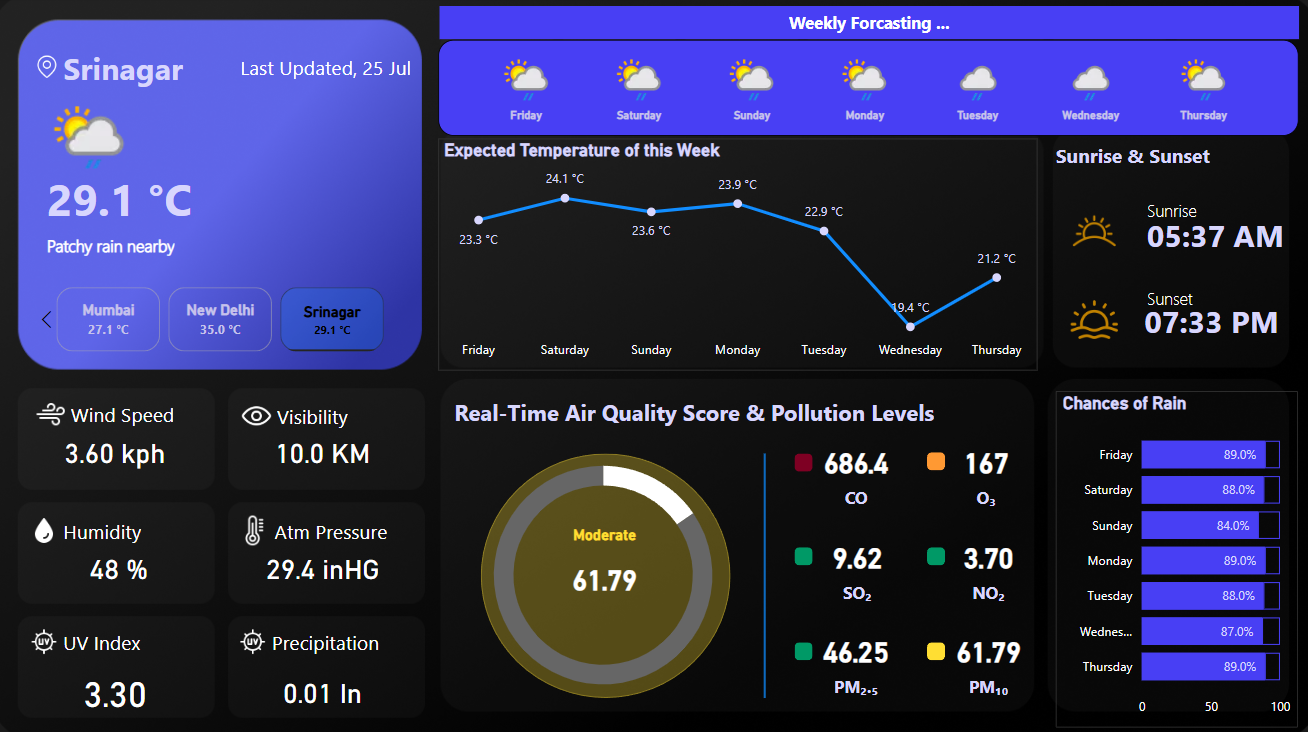

This screenshot's page, from the dashboard's own definition file:
{"tool":"powerbi","page":{"name":"Page 1","canvas":[1280,720],"ordinal":0},"visuals":[{"type":"shape","box":[471.2,441.2,241.2,236.2],"z":0},{"type":"donutChart","fields":{"Y":["Sum(CurrentData.current.air_quality.pm10)","_Measures.PM10_AQI_Left_to_Reach_Alert"]},"box":[432.5,422.5,316.2,273.8],"z":1000},{"type":"advancedSlicerVisual","fields":{"Values":["Locations.location.name"]},"box":[37,275.8,367.8,72.7],"z":2000},{"type":"cardVisual","fields":{"Data":["Min(CurrentData.current.condition.icon)"]},"box":[37,78.2,115.3,93.3],"z":3000},{"type":"shape","box":[53,162,344,64],"z":4000},{"type":"shape","box":[53,219,368,40],"z":5000},{"type":"shape","box":[68.6,42.5,152.3,52.1],"z":6000},{"type":"shape","box":[220.9,42.5,183.9,52.1],"z":7000},{"type":"image","box":[37,42.5,31.6,52.1],"z":8000},{"type":"image","box":[234,382,42.5,45.3],"z":9000},{"type":"shape","box":[275.6,382,125.4,45.2],"z":10000},{"type":"image","box":[37,381.5,38.4,45.3],"z":11000},{"type":"shape","box":[75.5,381.5,124.9,45.3],"z":12000},{"type":"image","box":[32.9,494,35.7,45.3],"z":13000},{"type":"shape","box":[68.6,494,124.9,45.3],"z":14000},{"type":"image","box":[234.6,494,38.4,45.3],"z":15000},{"type":"shape","box":[273.1,494,124.9,45.3],"z":16000},{"type":"image","box":[234.6,601,35.7,45.3],"z":17000},{"type":"shape","box":[270.3,601,124.9,45.3],"z":18000},{"type":"image","box":[32.9,601,35.7,45.3],"z":19000},{"type":"shape","box":[68.6,601,124.9,45.3],"z":20000},{"type":"card","fields":{"Values":["_Measures.Humidity_%"]},"box":[45.2,526.4,156,52.5],"z":21000},{"type":"card","fields":{"Values":["_Measures.Visibility_kms"]},"box":[237.7,414.1,163.3,52.5],"z":22000},{"type":"card","fields":{"Values":["_Measures.Wind_Speed_kms"]},"box":[37.9,414.1,163.3,52.5],"z":23000},{"type":"card","fields":{"Values":["_Measures.Atm_Pressure_inHG"]},"box":[237.7,526.4,163.3,52.5],"z":24000},{"type":"card","fields":{"Values":["Sum(CurrentData.current.uv)"]},"box":[37.9,646,163.3,52.5],"z":25000},{"type":"card","fields":{"Values":["_Measures.Precipitation_Inches"]},"box":[237.7,646,163.3,52.5],"z":26000},{"type":"advancedSlicerVisual","fields":{"Values":["Forcast_Days.Day_Name"]},"box":[431.2,42.5,830,92.5],"z":27000},{"type":"textbox","box":[431.7,10,829.3,32],"z":28000},{"type":"lineChart","title":"Expected Temperature of this Week","fields":{"Category":["Forcast_Days.Day_Name"],"Y":["Sum(Forcast_Days.forecast.forecastday.day.avgtemp_c)"]},"box":[431.2,138,578.8,223.8],"z":29000},{"type":"shape","box":[1026.2,141.2,183.8,31.2],"z":30000},{"type":"image","box":[1026.2,285,73.8,55],"z":31000},{"type":"shape","box":[1115,201.2,145,57.5],"z":32000},{"type":"image","box":[1026.2,193.8,73.8,65],"z":33000},{"type":"shape","box":[1115,186.2,145,40],"z":34000},{"type":"shape","box":[1112.5,285,147.5,57.5],"z":35000},{"type":"shape","box":[1115,271.2,145,40],"z":36000},{"type":"barChart","title":"Chances of Rain","fields":{"Category":["Forcast_Days.Day_Name"],"Y":["Sum(Forcast_Days.forecast.forecastday.day.daily_chance_of_rain)","_Measures.No_Rain_Chances"]},"box":[1026.2,381.2,233.8,325],"z":37000},{"type":"shape","box":[446.2,387.5,527.5,35],"z":38000},{"type":"card","fields":{"Values":["Sum(CurrentData.current.air_quality.o3)"]},"box":[912.5,418.8,95,85],"z":39000},{"type":"card","fields":{"Values":["Sum(CurrentData.current.air_quality.no2)"]},"box":[915,510,95,85],"z":40000},{"type":"card","fields":{"Values":["Sum(CurrentData.current.air_quality.pm10)"]},"box":[915,601.2,95,85],"z":41000},{"type":"card","fields":{"Values":["Sum(CurrentData.current.air_quality.co)"]},"box":[786.2,418.8,95,85],"z":42000},{"type":"card","fields":{"Values":["Sum(CurrentData.current.air_quality.so2)"]},"box":[787.5,510,95,85],"z":43000},{"type":"card","fields":{"Values":["Sum(CurrentData.current.air_quality.pm2_5)"]},"box":[786.2,601.2,95,85],"z":44000},{"type":"shape","box":[775,441.2,17.5,17.5],"z":45000},{"type":"shape","box":[902.5,440,17.5,17.5],"z":46000},{"type":"shape","box":[775,532.5,17.5,17.5],"z":47000},{"type":"shape","box":[902.5,532.5,17.5,17.5],"z":48000},{"type":"shape","box":[775,623.8,17.5,17.5],"z":49000},{"type":"shape","box":[902.5,623.8,17.5,17.5],"z":50000},{"type":"shape","box":[740,441.2,12.5,236.2],"z":51000},{"type":"card","fields":{"Values":["Sum(CurrentData.current.air_quality.pm10)"]},"box":[516.2,511.2,150,85],"z":51001}]}

Visuals, with their boxes in screenshot pixels (x1, y1, x2, y2), scaled from the page's 1280x720 canvas onto the 1308x732 screenshot:
shape: select_region(482, 449, 728, 689)
donutChart - Sum(CurrentData.current.air_quality.pm10) x _Measures.PM10_AQI_Left_to_Reach_Alert: select_region(442, 430, 765, 708)
advancedSlicerVisual - Locations.location.name: select_region(38, 280, 414, 354)
cardVisual - Min(CurrentData.current.condition.icon): select_region(38, 80, 156, 174)
shape: select_region(54, 165, 406, 230)
shape: select_region(54, 223, 430, 263)
shape: select_region(70, 43, 226, 96)
shape: select_region(226, 43, 414, 96)
image: select_region(38, 43, 70, 96)
image: select_region(239, 388, 283, 434)
shape: select_region(282, 388, 410, 434)
image: select_region(38, 388, 77, 434)
shape: select_region(77, 388, 205, 434)
image: select_region(34, 502, 70, 548)
shape: select_region(70, 502, 198, 548)
image: select_region(240, 502, 279, 548)
shape: select_region(279, 502, 407, 548)
image: select_region(240, 611, 276, 657)
shape: select_region(276, 611, 404, 657)
image: select_region(34, 611, 70, 657)
shape: select_region(70, 611, 198, 657)
card - _Measures.Humidity_%: select_region(46, 535, 206, 589)
card - _Measures.Visibility_kms: select_region(243, 421, 410, 474)
card - _Measures.Wind_Speed_kms: select_region(39, 421, 206, 474)
card - _Measures.Atm_Pressure_inHG: select_region(243, 535, 410, 589)
card - Sum(CurrentData.current.uv): select_region(39, 657, 206, 710)
card - _Measures.Precipitation_Inches: select_region(243, 657, 410, 710)
advancedSlicerVisual - Forcast_Days.Day_Name: select_region(441, 43, 1289, 137)
textbox: select_region(441, 10, 1289, 43)
"Expected Temperature of this Week" lineChart: select_region(441, 140, 1032, 368)
shape: select_region(1049, 144, 1236, 175)
image: select_region(1049, 290, 1124, 346)
shape: select_region(1139, 205, 1288, 263)
image: select_region(1049, 197, 1124, 263)
shape: select_region(1139, 189, 1288, 230)
shape: select_region(1137, 290, 1288, 348)
shape: select_region(1139, 276, 1288, 316)
"Chances of Rain" barChart: select_region(1049, 388, 1288, 718)
shape: select_region(456, 394, 995, 430)
card - Sum(CurrentData.current.air_quality.o3): select_region(932, 426, 1030, 512)
card - Sum(CurrentData.current.air_quality.no2): select_region(935, 518, 1032, 605)
card - Sum(CurrentData.current.air_quality.pm10): select_region(935, 611, 1032, 698)
card - Sum(CurrentData.current.air_quality.co): select_region(803, 426, 900, 512)
card - Sum(CurrentData.current.air_quality.so2): select_region(805, 518, 902, 605)
card - Sum(CurrentData.current.air_quality.pm2_5): select_region(803, 611, 900, 698)
shape: select_region(792, 449, 810, 466)
shape: select_region(922, 447, 940, 465)
shape: select_region(792, 541, 810, 559)
shape: select_region(922, 541, 940, 559)
shape: select_region(792, 634, 810, 652)
shape: select_region(922, 634, 940, 652)
shape: select_region(756, 449, 769, 689)
card - Sum(CurrentData.current.air_quality.pm10): select_region(527, 520, 681, 606)
